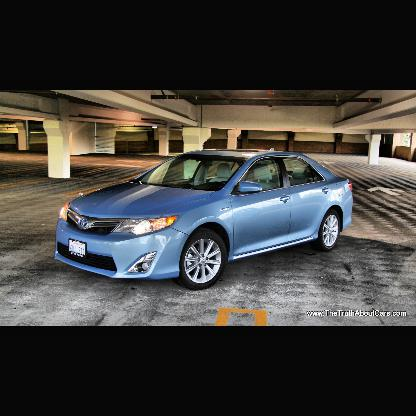Toyota Camry Sedan 2012: (52, 147, 356, 293)
